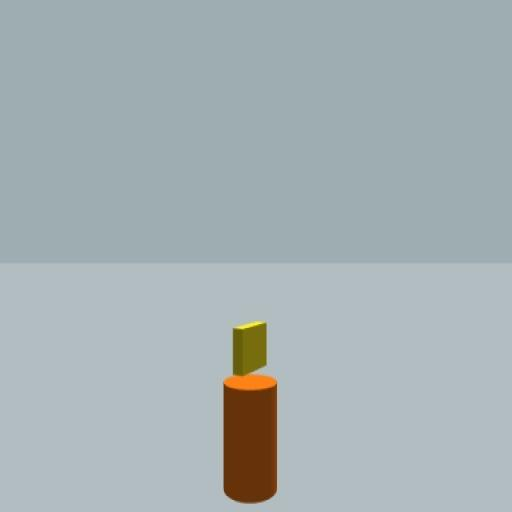buoy: (222, 320, 277, 503)
